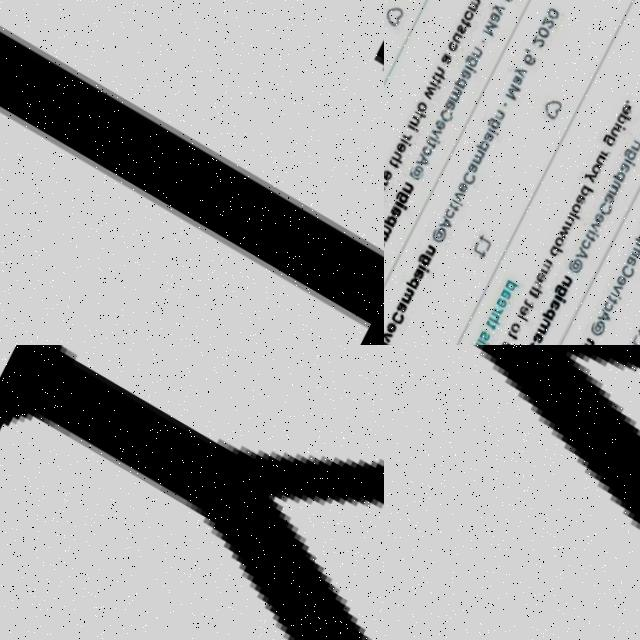2: (520, 49, 536, 64)
T: (0, 0, 384, 345)
V: (384, 345, 640, 640)
Y: (0, 345, 384, 640)
